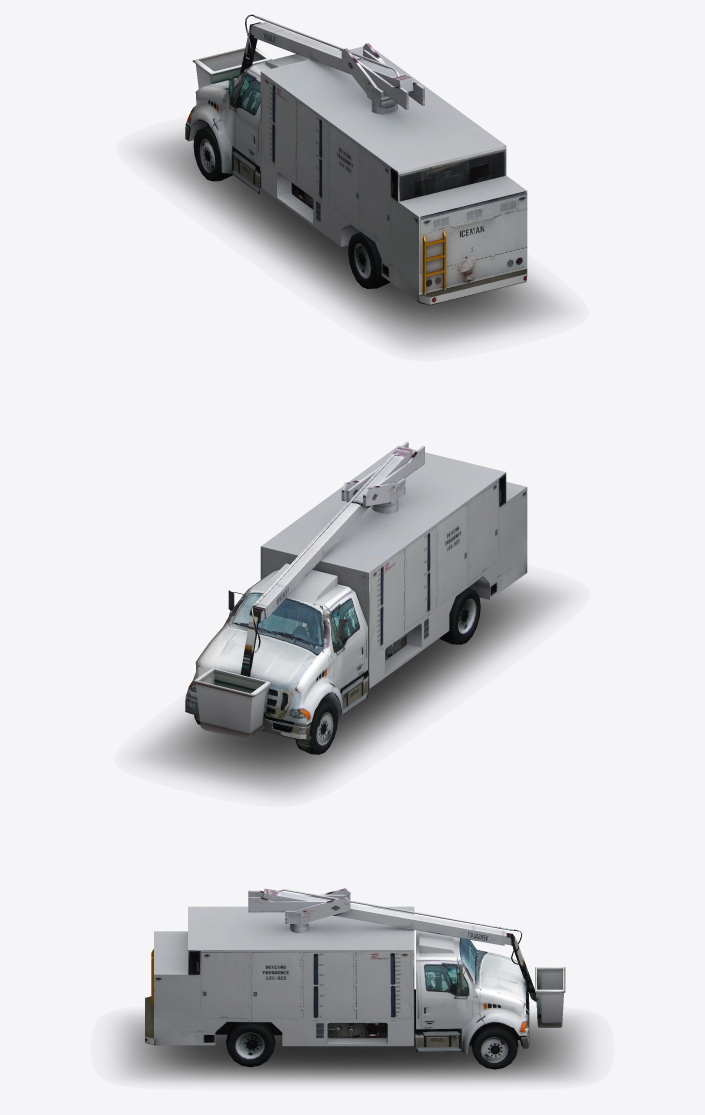
The model's file is Generic.gltf.
The picture shows the model from 3 angles, top to bottom: view 1: azimuth 30°, elevation 25°; view 2: azimuth 150°, elevation 25°; view 3: azimuth 270°, elevation 25°; orthographic projection. The views are drawn at different scales.
Visible parts, largest first — view 1: Generic; view 2: Generic; view 3: Generic.
Boxes of the visible parts, <box> form: Generic: <box>143,14,561,347</box>; Generic: <box>142,442,562,793</box>; Generic: <box>118,888,586,1082</box>.
Bounding box in the file's own units: 5.79 × 4.01 × 15.53.
